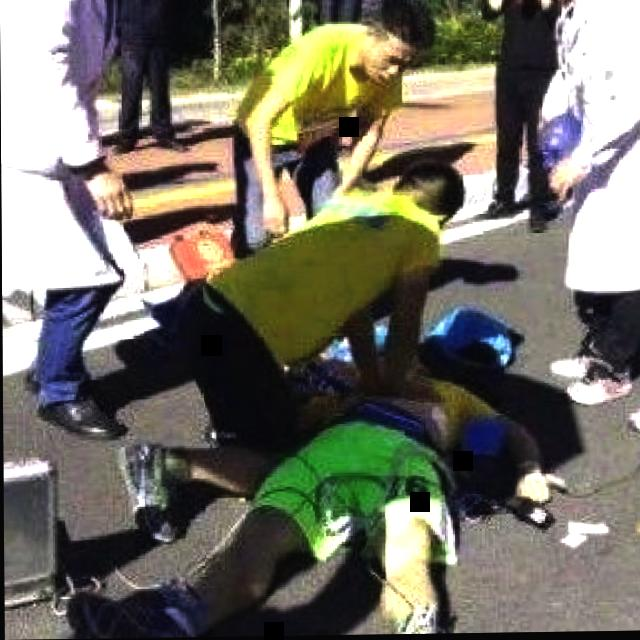Fall-Detected: (35, 318, 546, 640)
